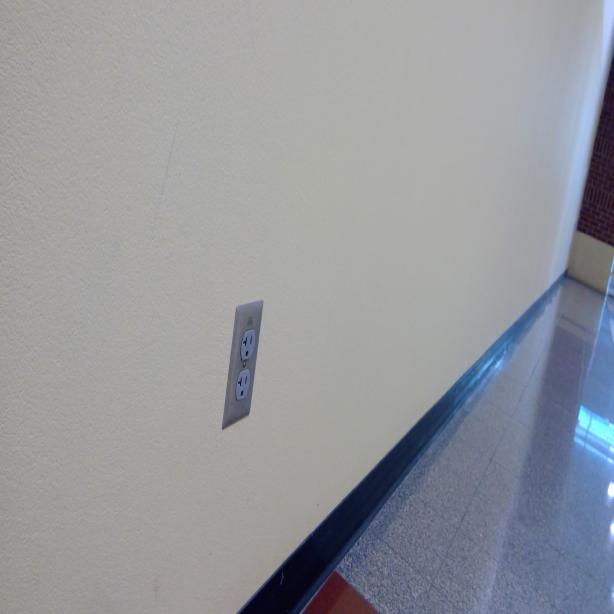typeb: (234, 371, 250, 402), (241, 328, 256, 360)
